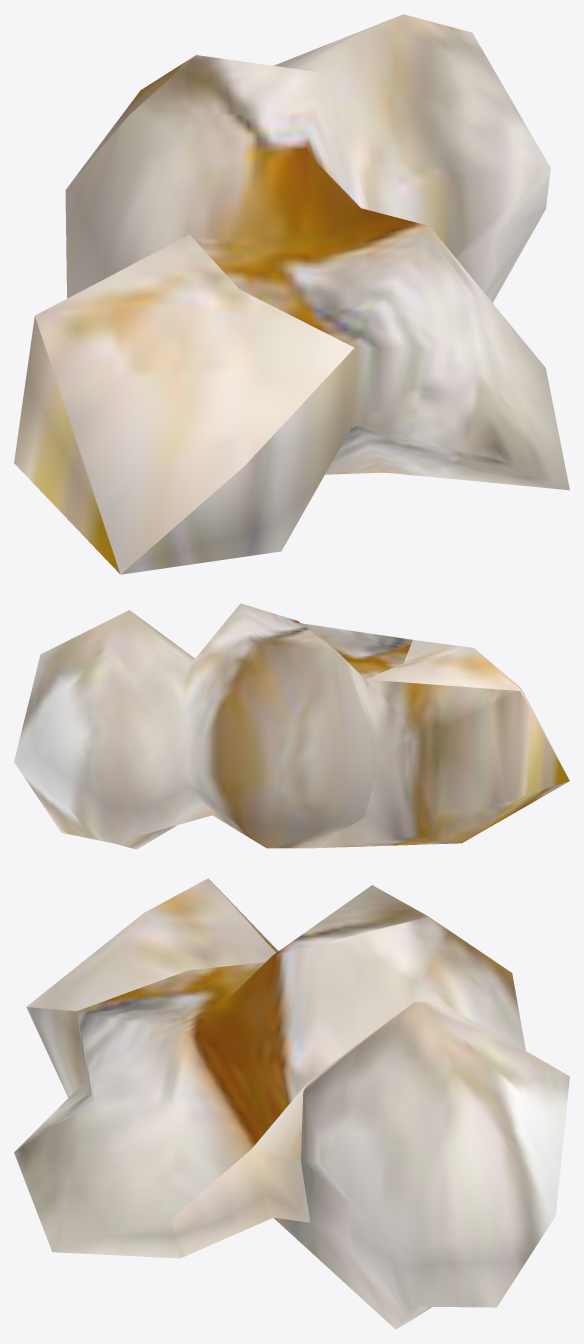
File: ball.glb
3 renders of one model, top to bottom at view 1: azimuth 30°, elevation 25°; view 2: azimuth 150°, elevation 25°; view 3: azimuth 270°, elevation 25°, orthographic. The views are drawn at different scales.
Visible parts, largest first — view 1: floor.003; view 2: floor.003; view 3: floor.003.
Boxes of the visible parts, x1,y1,x2,y2 form: floor.003: [14, 14, 569, 574]; floor.003: [14, 603, 569, 849]; floor.003: [14, 878, 569, 1329].
Size of the model in its own units: 1.38 by 0.8065 by 1.22.
Materials: 1 (1 with a texture image).
